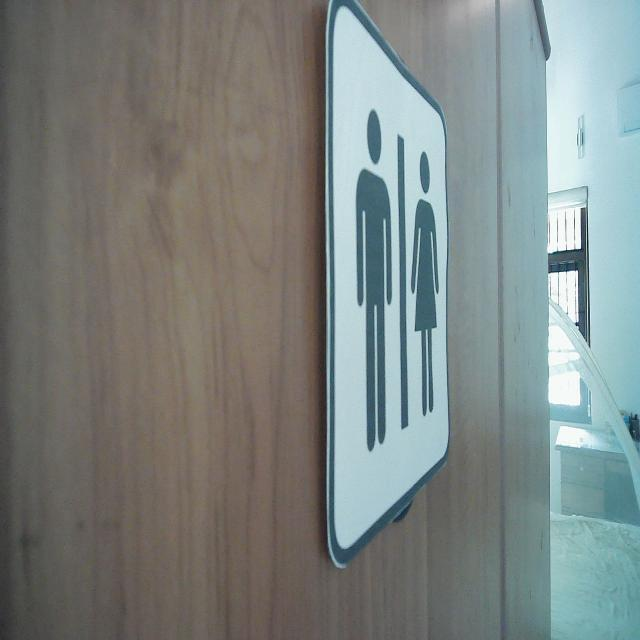restroom: (322, 0, 453, 574)
